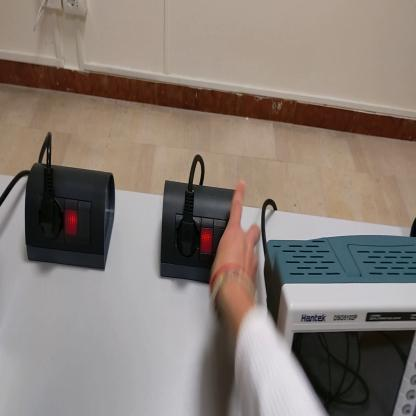hand: (208, 180, 261, 311)
oscilloscope: (262, 230, 415, 415)
socket: (23, 166, 117, 270), (161, 181, 241, 288)
